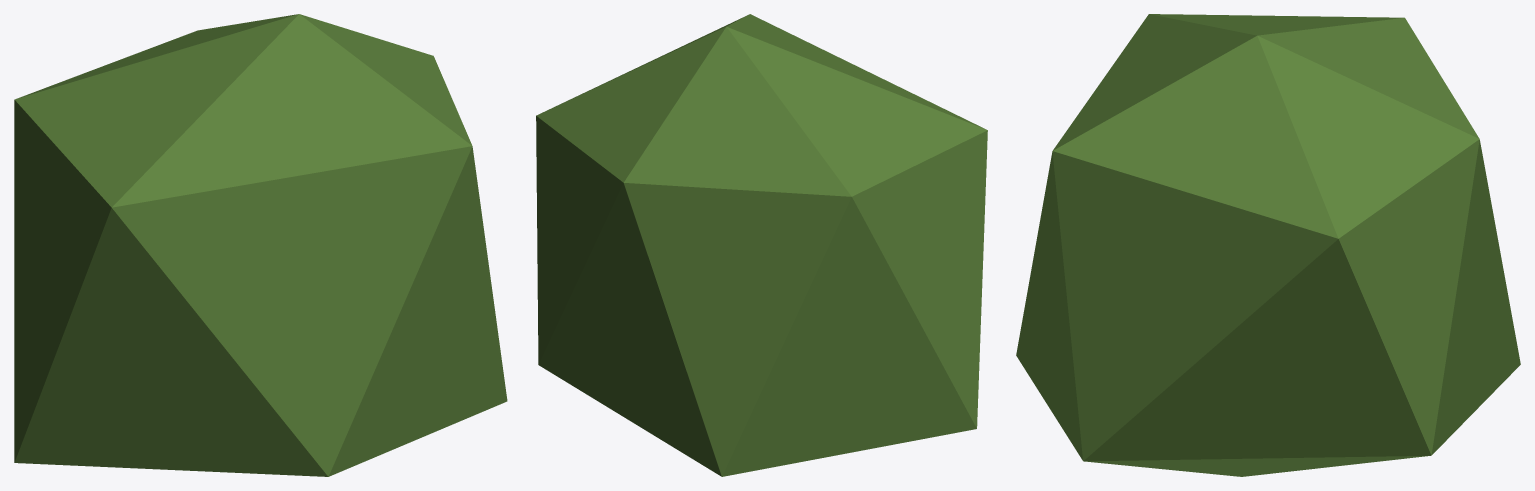
File: Bush1.fbx
The picture shows the model from 3 angles, left to right: view 1: azimuth 30°, elevation 25°; view 2: azimuth 150°, elevation 25°; view 3: azimuth 270°, elevation 25°; orthographic projection. The views are drawn at different scales.
Parts seen in each view (by area): view 1: Bush_1a; view 2: Bush_1a; view 3: Bush_1a.
Boxes of the visible parts, bbox=[...] form: Bush_1a: bbox=[14, 14, 507, 476]; Bush_1a: bbox=[536, 14, 987, 476]; Bush_1a: bbox=[1016, 14, 1520, 476].
Bounding box in the file's own units: 177 × 165 × 165.
